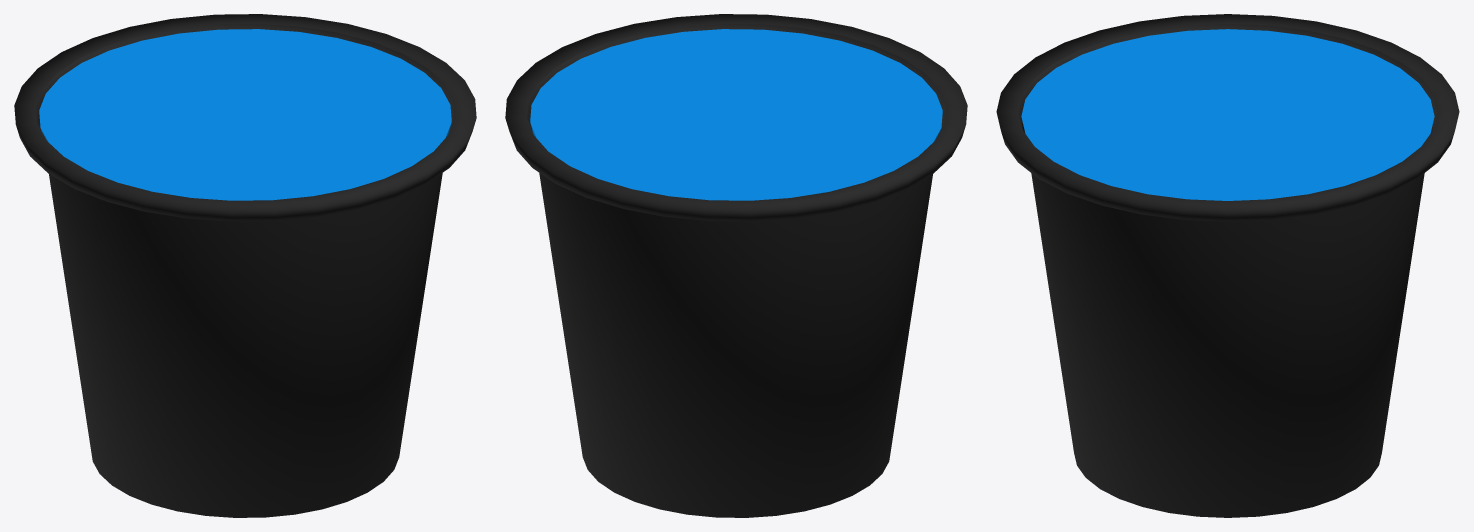
The model's file is bucket.fbx.
3 views of the same model, side by side, from view 1: azimuth 30°, elevation 25°; view 2: azimuth 150°, elevation 25°; view 3: azimuth 270°, elevation 25° (orthographic).
Parts seen in each view (by area): view 1: Sphere, Cylinder; view 2: Sphere, Cylinder; view 3: Sphere, Cylinder.
Part boxes in pixels (x1=…): Sphere: x1=14, y1=14, x2=476, y2=517; Cylinder: x1=39, y1=29, x2=451, y2=200; Sphere: x1=505, y1=14, x2=967, y2=517; Cylinder: x1=530, y1=29, x2=942, y2=200; Sphere: x1=996, y1=14, x2=1459, y2=517; Cylinder: x1=1021, y1=29, x2=1434, y2=200.
Bounding box in the file's own units: 231 × 188 × 231.
